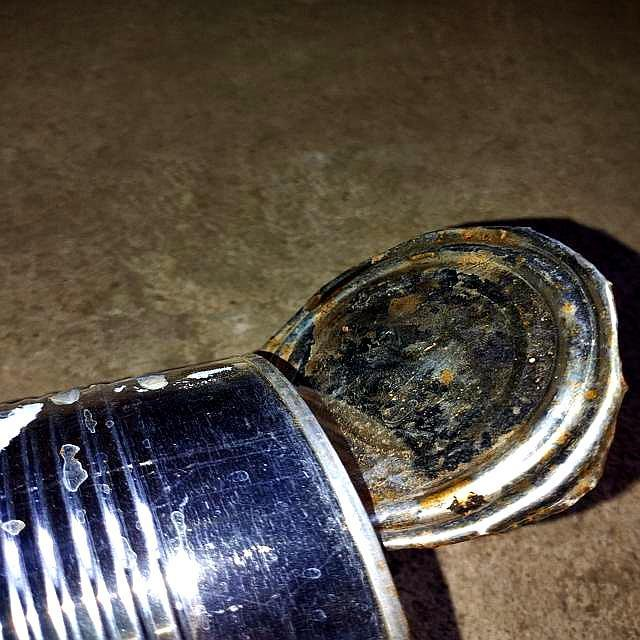Non-biodegradable: (1, 207, 640, 640)
